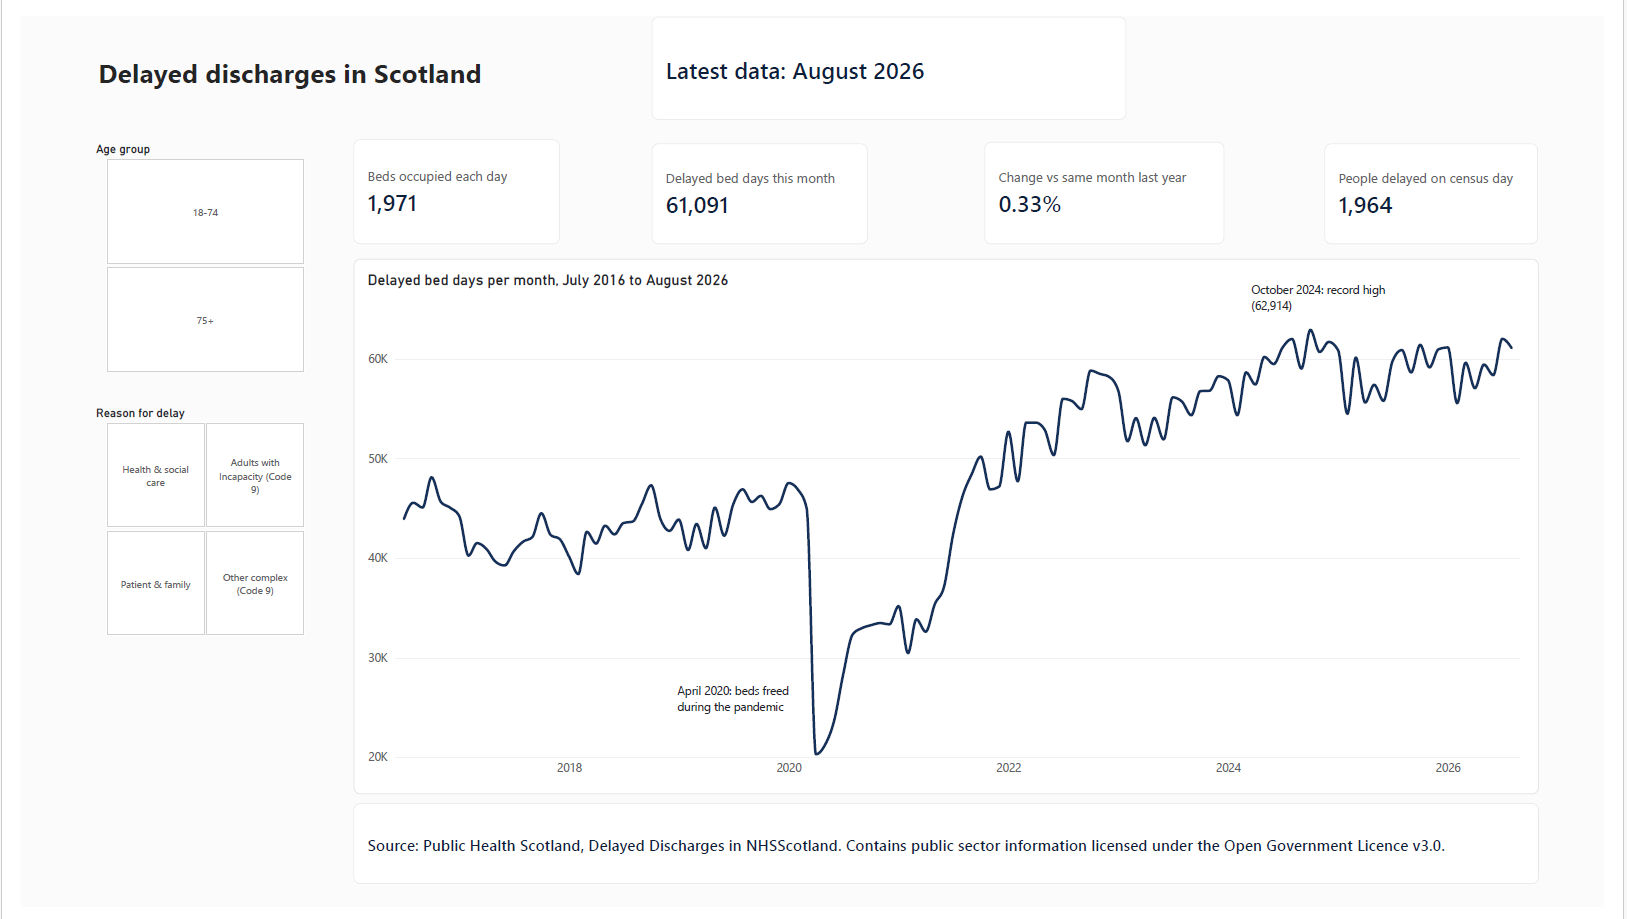

The page's visual inventory and layout, read from the dashboard file:
{"tool":"powerbi","page":{"name":"Overview","canvas":[1920,1080],"ordinal":0},"visuals":[{"type":"cardVisual","fields":{"Data":["_Measures.Bed Days (Latest Month)"]},"box":[764.9,153.5,262.6,122.5],"z":0},{"type":"cardVisual","fields":{"Data":["_Measures.Bed Days YoY % (Latest Month)"]},"box":[1168.9,152.2,290.9,123.9],"z":1000},{"type":"cardVisual","fields":{"Data":["_Measures.Avg Daily Beds (Card)"]},"box":[402.6,149.5,250.5,126.6],"z":2000},{"type":"cardVisual","fields":{"Data":["_Measures.Census Delays (Card)"]},"box":[1582.3,153.5,258.6,122.5],"z":3000},{"type":"textbox","box":[92.9,45.8,491.5,79.5],"z":4000},{"type":"cardVisual","fields":{"Data":["_Measures.Latest Month Label"]},"box":[764.9,0,576.4,125.2],"z":5000},{"type":"lineChart","title":"Delayed bed days per month, July 2016 to August 2026","fields":{"Category":["dim_date.Date"],"Y":["_Measures.Bed Days"]},"box":[402.6,293.6,1439.6,650.4],"z":6000},{"type":"slicer","fields":{"Values":["dim_age_group.AgeGroup"]},"box":[81.7,153.2,280,280],"z":7000},{"type":"slicer","fields":{"Values":["dim_reason.ReasonShort"]},"box":[81.7,472.7,280,280],"z":8000},{"type":"cardVisual","fields":{"Data":["_Measures.Source Note"]},"box":[402.6,954.8,1439.6,98.3],"z":9000},{"type":"textbox","box":[795.9,809.3,142.7,67.3],"z":10000},{"type":"textbox","box":[1493.4,321.8,177.8,84.8],"z":11000}]}

Visuals, with their boxes in screenshot pixels (x1, y1, x2, y2), scaled from the page's 1920x1080 canvas onto the 1627x919 screenshot:
cardVisual - _Measures.Bed Days (Latest Month): (648,131,871,235)
cardVisual - _Measures.Bed Days YoY % (Latest Month): (991,130,1237,235)
cardVisual - _Measures.Avg Daily Beds (Card): (341,127,553,235)
cardVisual - _Measures.Census Delays (Card): (1341,131,1560,235)
textbox: (79,39,495,107)
cardVisual - _Measures.Latest Month Label: (648,0,1137,107)
"Delayed bed days per month, July 2016 to August 2026" lineChart: (341,250,1561,803)
slicer - dim_age_group.AgeGroup: (69,130,307,369)
slicer - dim_reason.ReasonShort: (69,402,307,640)
cardVisual - _Measures.Source Note: (341,812,1561,896)
textbox: (674,689,795,746)
textbox: (1266,274,1416,346)
